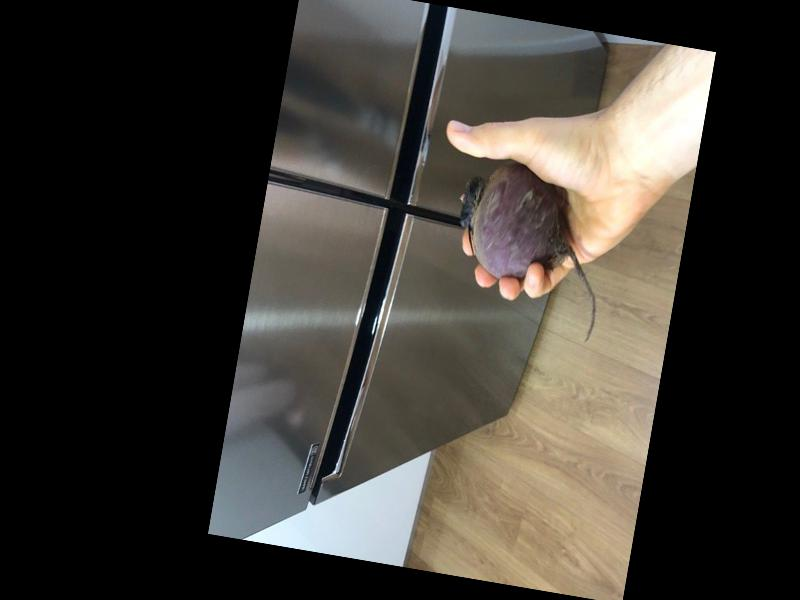Beet: (440, 154, 617, 343)
